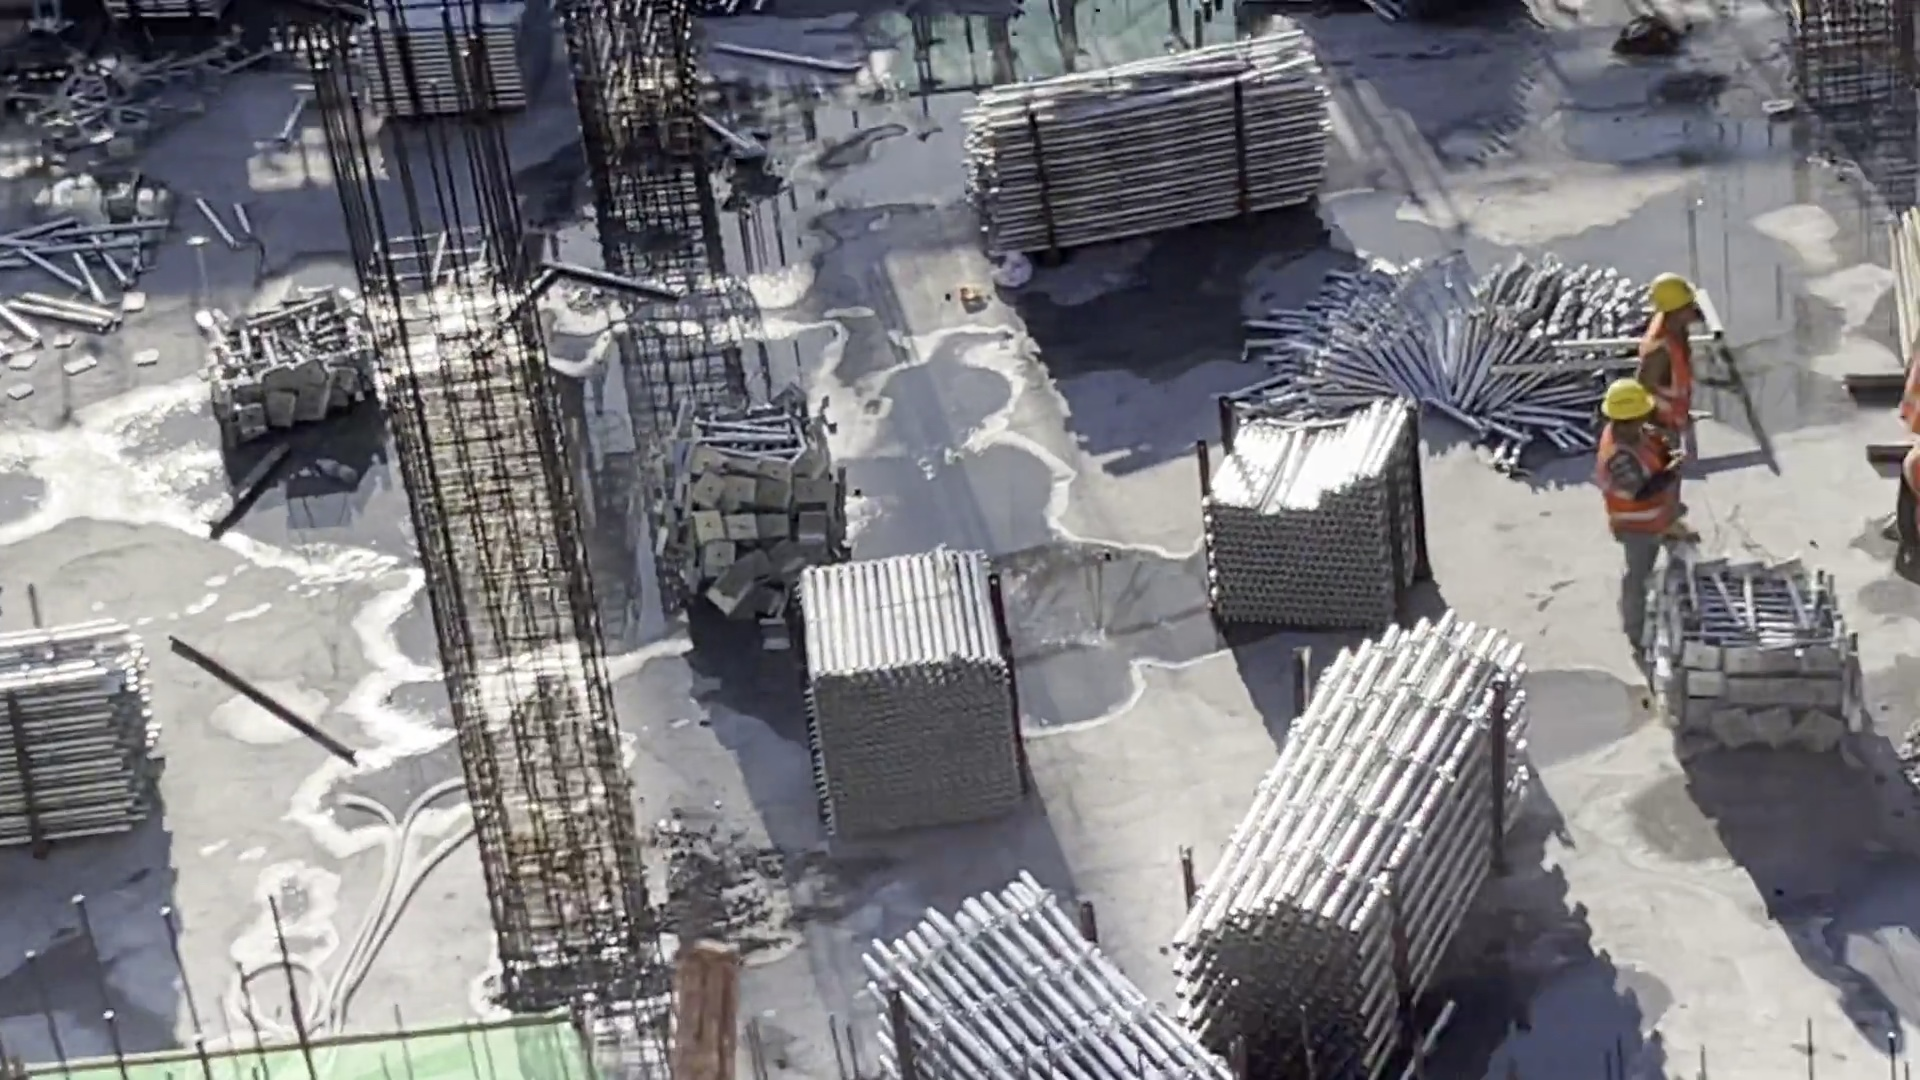helmet: (1600, 372, 1660, 425), (1642, 269, 1697, 324)
person: (1601, 377, 1706, 680), (1634, 268, 1707, 410)
scaffold: (1147, 607, 1567, 1080), (952, 21, 1333, 266), (847, 862, 1254, 1080), (788, 533, 1027, 849), (1204, 393, 1422, 637), (2, 619, 167, 851)
vest: (1601, 423, 1677, 521), (1639, 316, 1694, 410)
